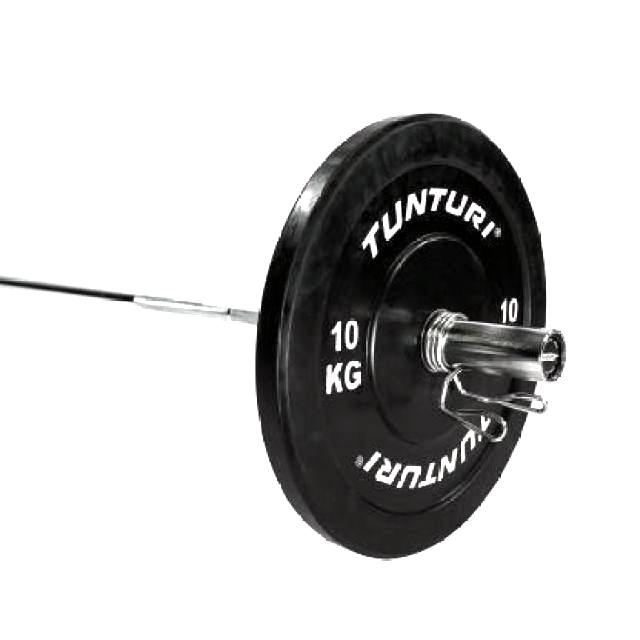barbell: (240, 100, 575, 570)
